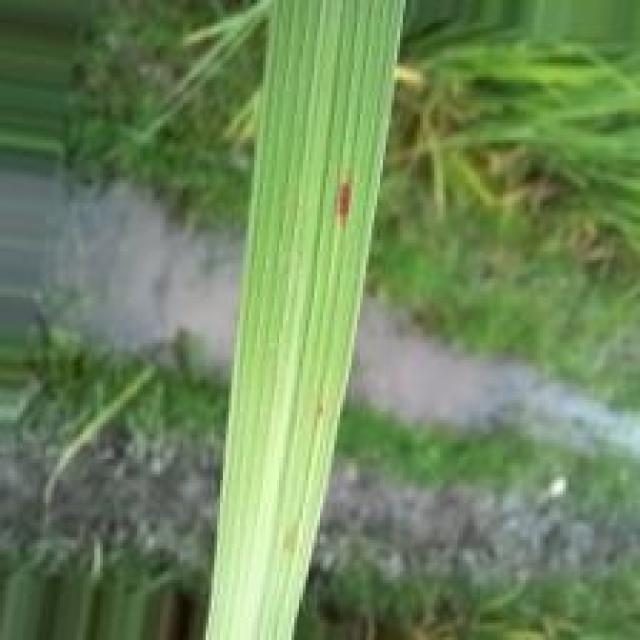Brown_Spot: (334, 177, 358, 234)
